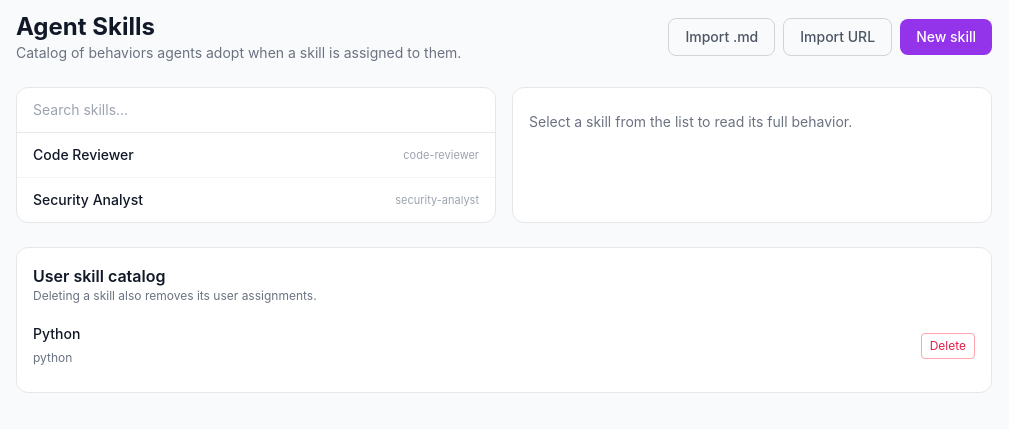
AgentSkillsView (issue #610) › lists the catalog and reads the full behavior of a selected skill
Click the button "Code Reviewer code-reviewer" at (83, 154), box x1=17 y1=133 x2=495 y2=177
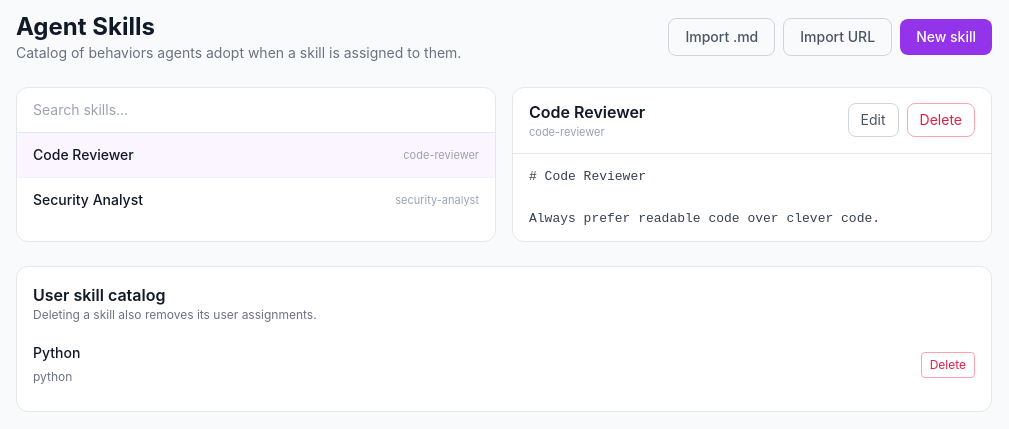
expect the text "# Code Reviewer" is shown: met, box x1=529 y1=168 x2=880 y2=226
expect the text "Always prefer readable code" is shown: met, box x1=529 y1=168 x2=880 y2=226
